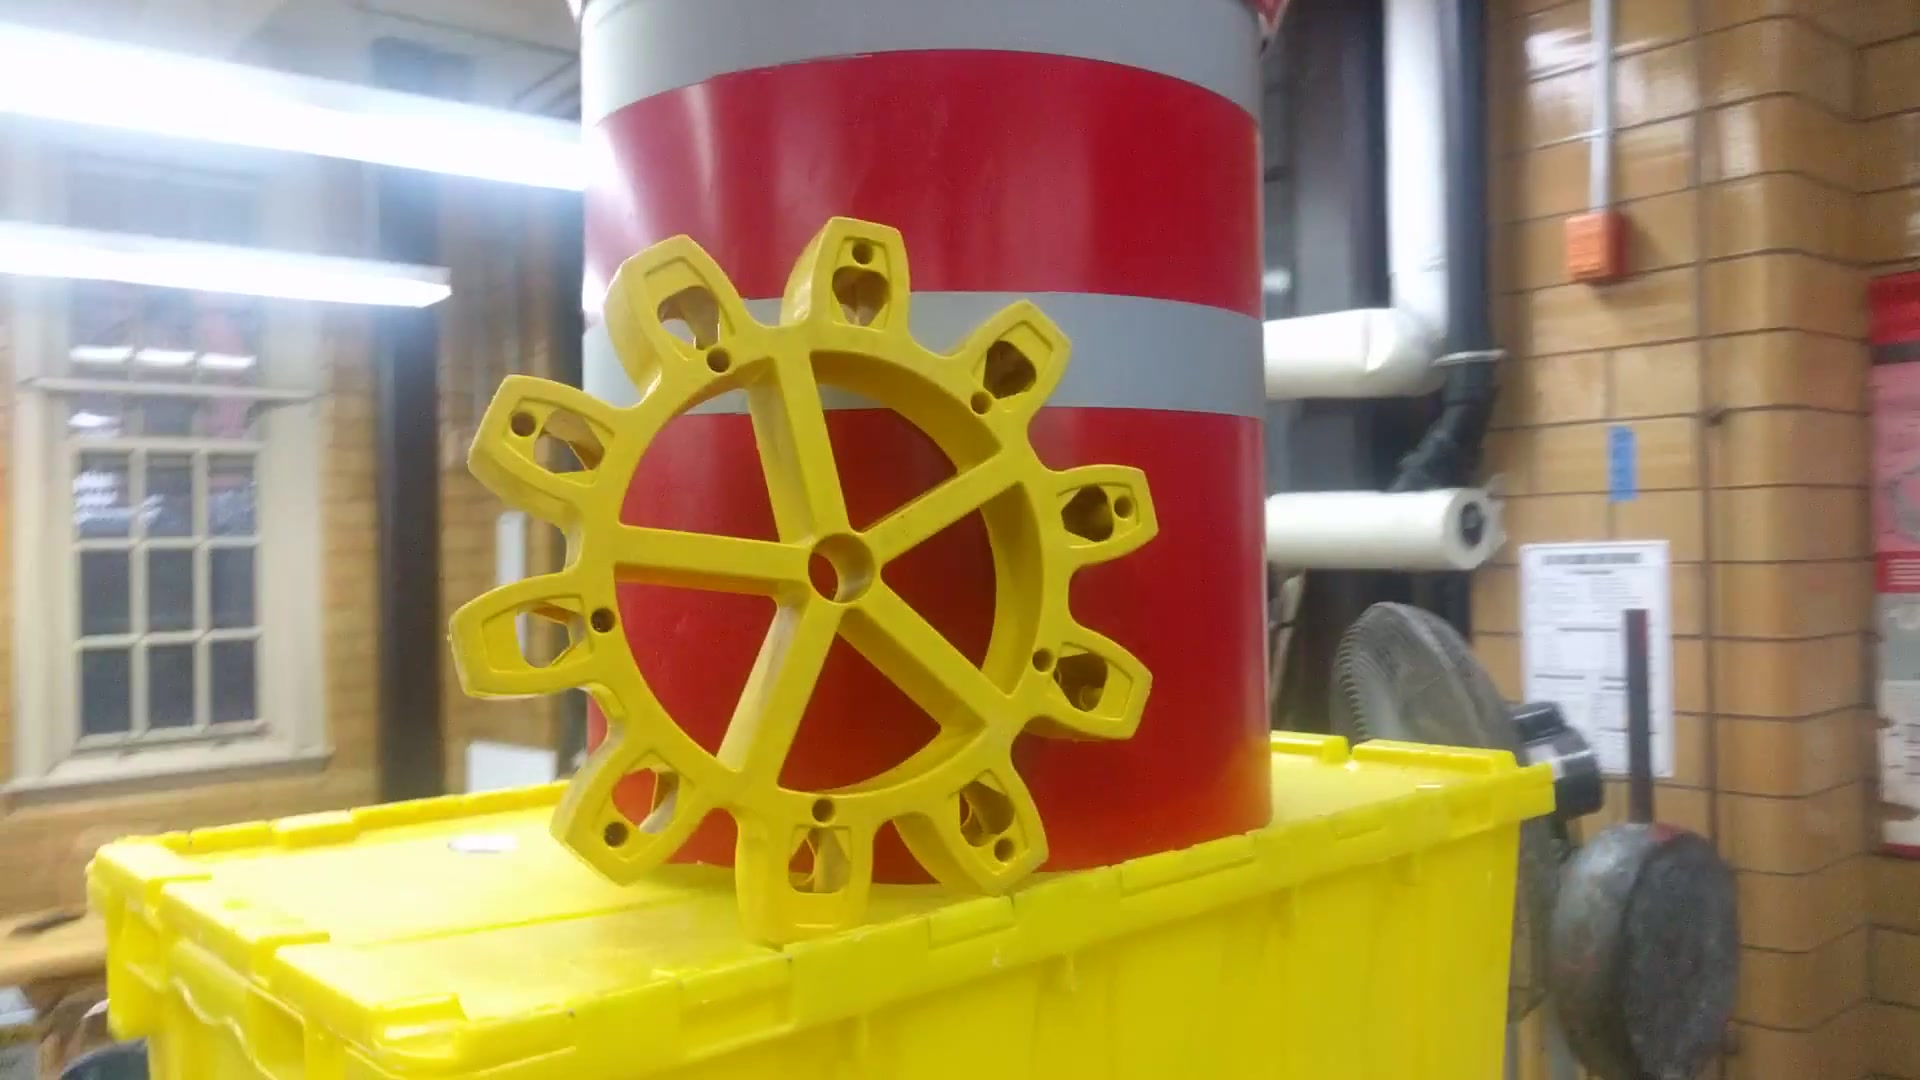gear: (429, 185, 1172, 924)
